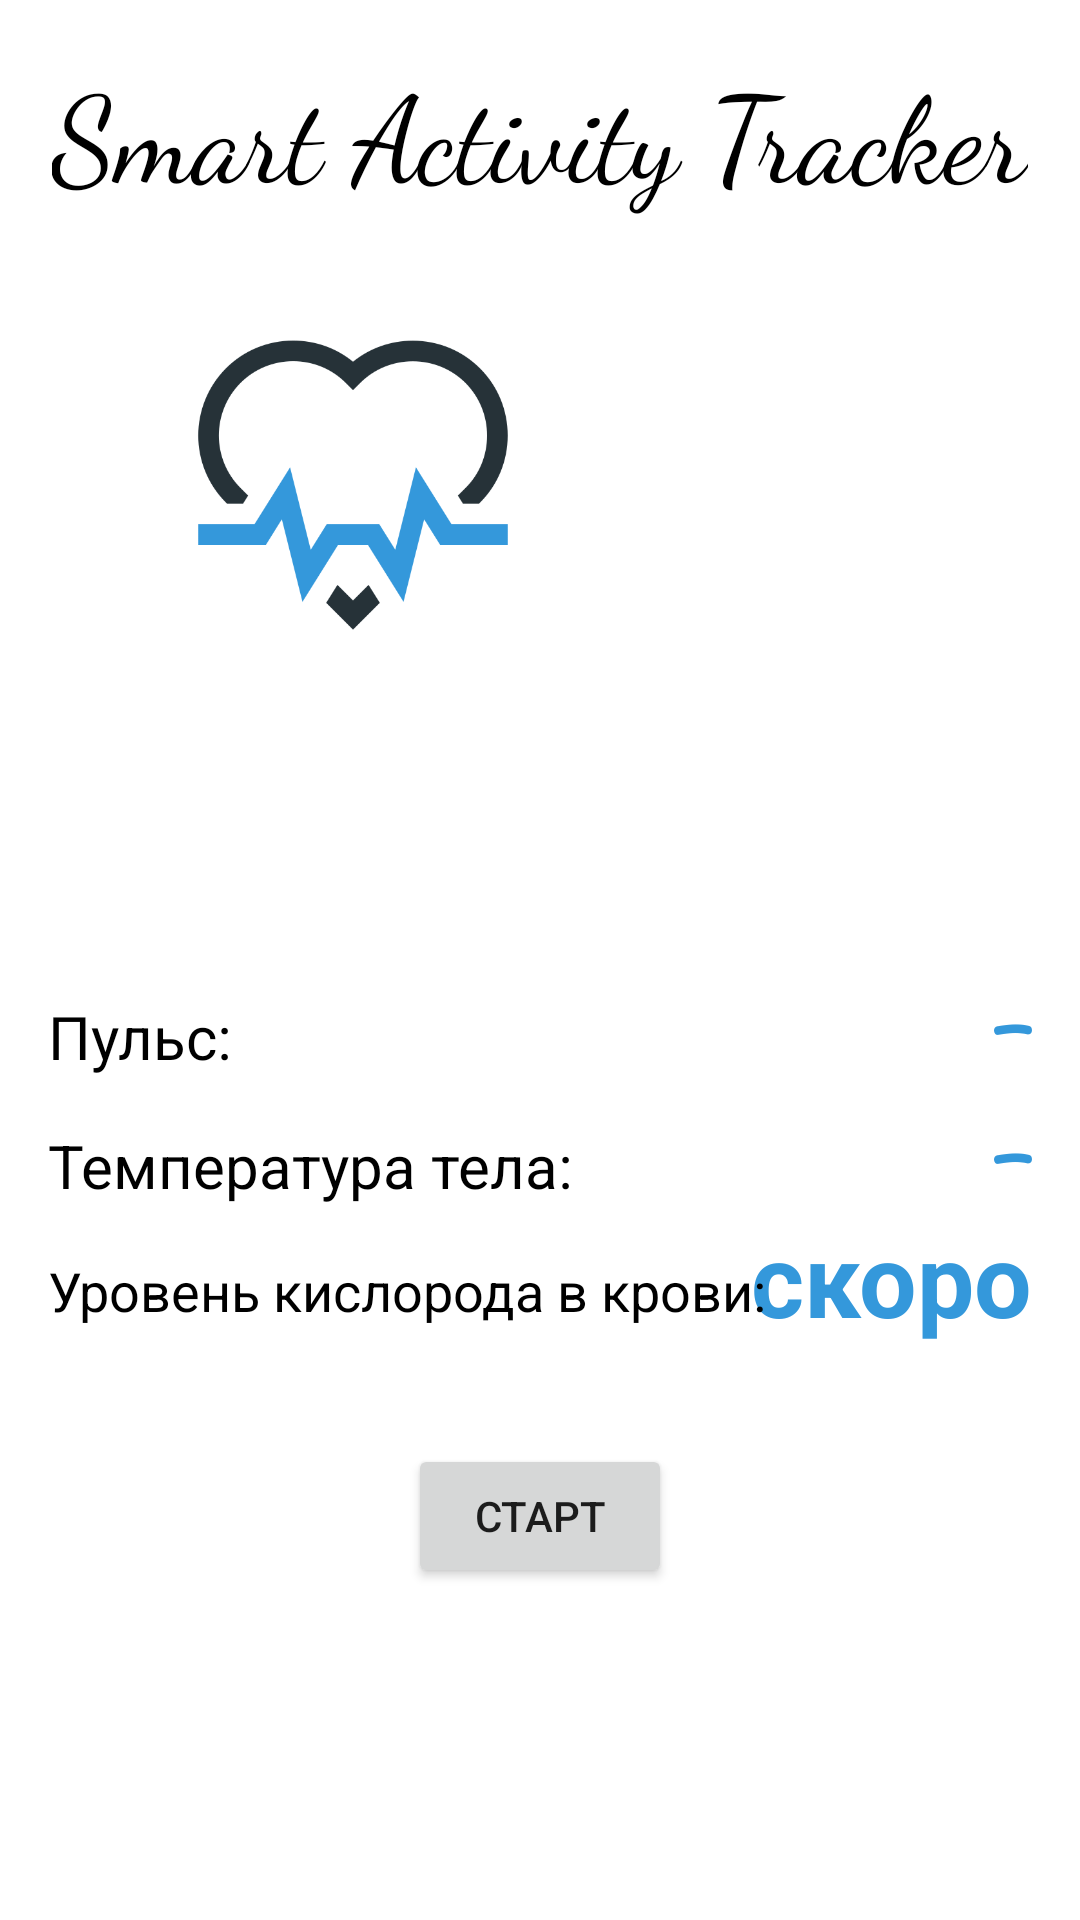

Point at icon controls on the screen. Image size 1080 x 1920, points as (x,y).
heart monitor: (353,485)
